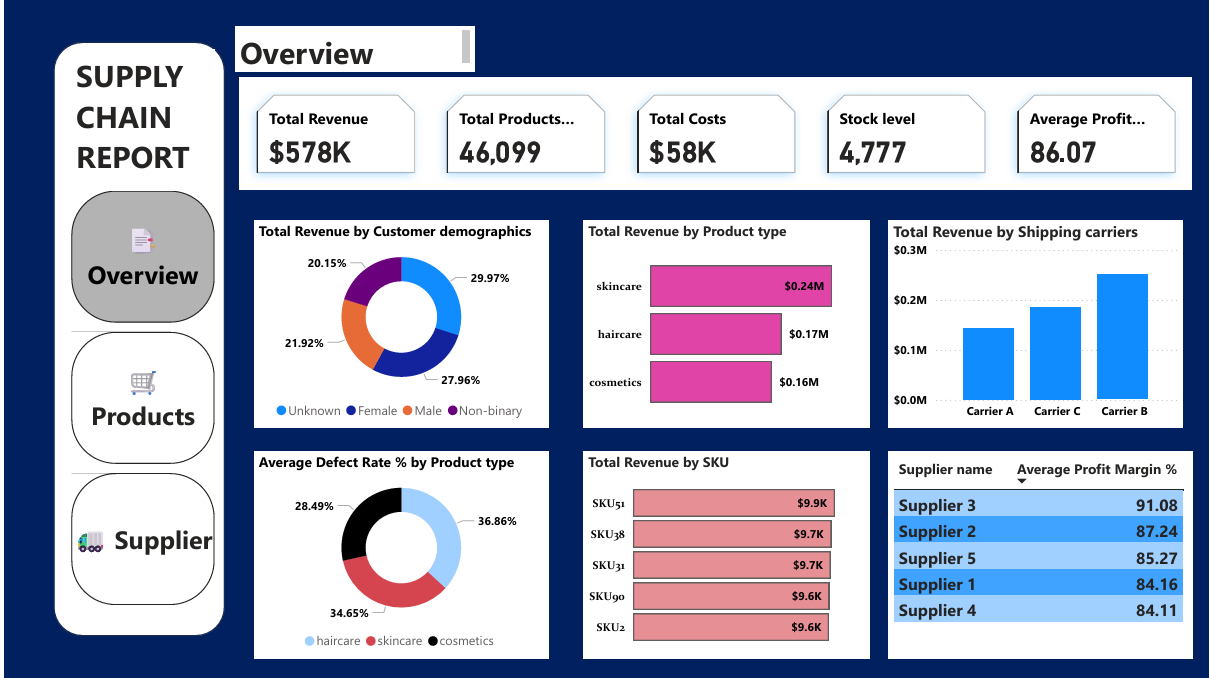

This screenshot's page, from the dashboard's own definition file:
{"tool":"powerbi","page":{"name":"📑 Overview","canvas":[1280,720],"ordinal":0},"visuals":[{"type":"cardVisual","fields":{"Data":["_Measures.Total Revenue","_Measures.Total Products Sold","_Measures.Total Costs","_Measures.Stock level","_Measures.Average Profit Margin %"]},"box":[249.6,81.8,1012.4,119.9],"z":0},{"type":"donutChart","fields":{"Y":["_Measures.Total Revenue"],"Category":["supply_chain_data.Customer demographics"]},"box":[265.1,234.1,313,220],"z":1000},{"type":"donutChart","fields":{"Category":["supply_chain_data.Product type"],"Y":["_Measures.Average Defect Rate %"]},"box":[265.1,479.4,313,220],"z":2000},{"type":"clusteredBarChart","fields":{"Y":["_Measures.Total Revenue"],"Category":["supply_chain_data.Product type"]},"box":[614.8,234.1,304.6,220],"z":3000},{"type":"clusteredBarChart","fields":{"Y":["_Measures.Total Revenue"],"Category":["supply_chain_data.SKU"]},"box":[614.8,479.4,304.6,220],"z":4000},{"type":"columnChart","fields":{"Y":["_Measures.Total Revenue"],"Category":["supply_chain_data.Shipping carriers"]},"box":[939.1,234.1,313,220],"z":5000},{"type":"tableEx","fields":{"Values":["supply_chain_data.Supplier name","_Measures.Average Profit Margin %"]},"box":[939.1,479.4,322.9,220],"z":6000},{"type":"textbox","box":[245.3,26.8,253.8,47.9],"z":6001},{"type":"pageNavigator","box":[70.5,201.6,152.3,441.3],"z":6002},{"type":"textbox","box":[71,52,152,150],"z":6003}]}

Visuals, with their boxes in screenshot pixels (x1, y1, x2, y2), scaled from the page's 1280x720 canvas onto the 1210x678 screenshot:
cardVisual - _Measures.Total Revenue x _Measures.Total Products Sold: {"x1": 236, "y1": 77, "x2": 1193, "y2": 190}
donutChart - _Measures.Total Revenue x supply_chain_data.Customer demographics: {"x1": 251, "y1": 220, "x2": 546, "y2": 428}
donutChart - supply_chain_data.Product type x _Measures.Average Defect Rate %: {"x1": 251, "y1": 451, "x2": 546, "y2": 659}
clusteredBarChart - _Measures.Total Revenue x supply_chain_data.Product type: {"x1": 581, "y1": 220, "x2": 869, "y2": 428}
clusteredBarChart - _Measures.Total Revenue x supply_chain_data.SKU: {"x1": 581, "y1": 451, "x2": 869, "y2": 659}
columnChart - _Measures.Total Revenue x supply_chain_data.Shipping carriers: {"x1": 888, "y1": 220, "x2": 1184, "y2": 428}
tableEx - supply_chain_data.Supplier name x _Measures.Average Profit Margin %: {"x1": 888, "y1": 451, "x2": 1193, "y2": 659}
textbox: {"x1": 232, "y1": 25, "x2": 472, "y2": 70}
pageNavigator: {"x1": 67, "y1": 190, "x2": 211, "y2": 605}
textbox: {"x1": 67, "y1": 49, "x2": 211, "y2": 190}
